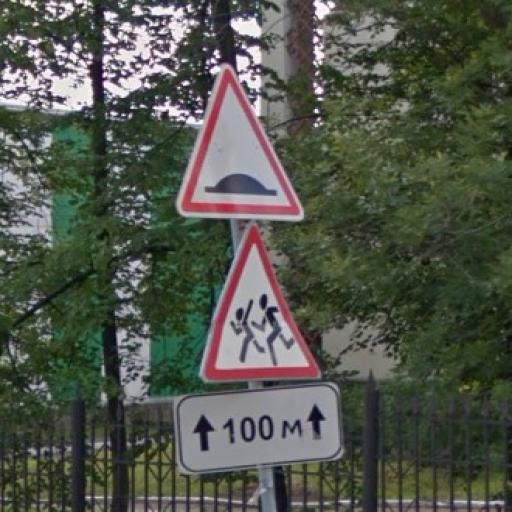traffic_sign: (178, 65, 307, 223), (198, 222, 324, 382)
